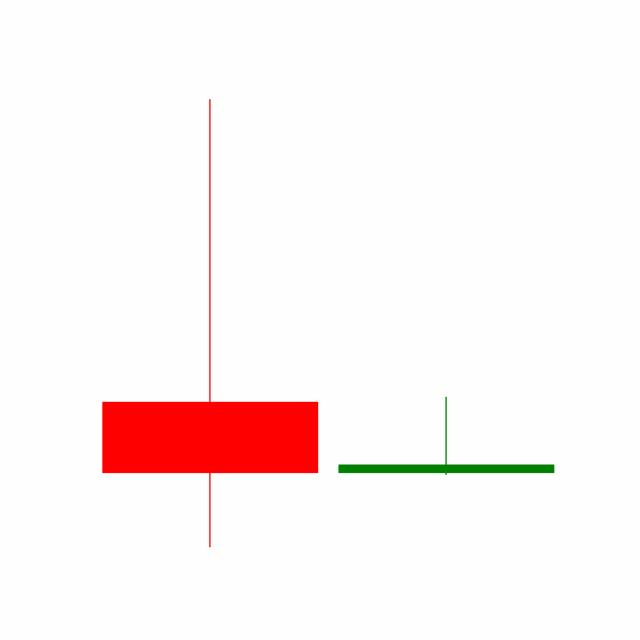Gravestone Doji: (327, 396, 565, 476)
